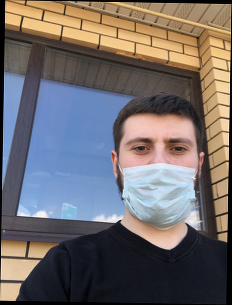with_mask: (119, 128, 197, 232)
